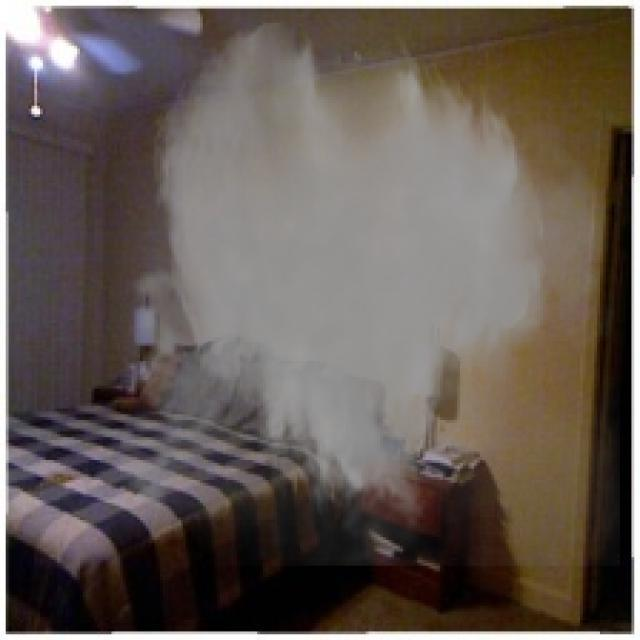Smoke: (97, 17, 620, 566)
